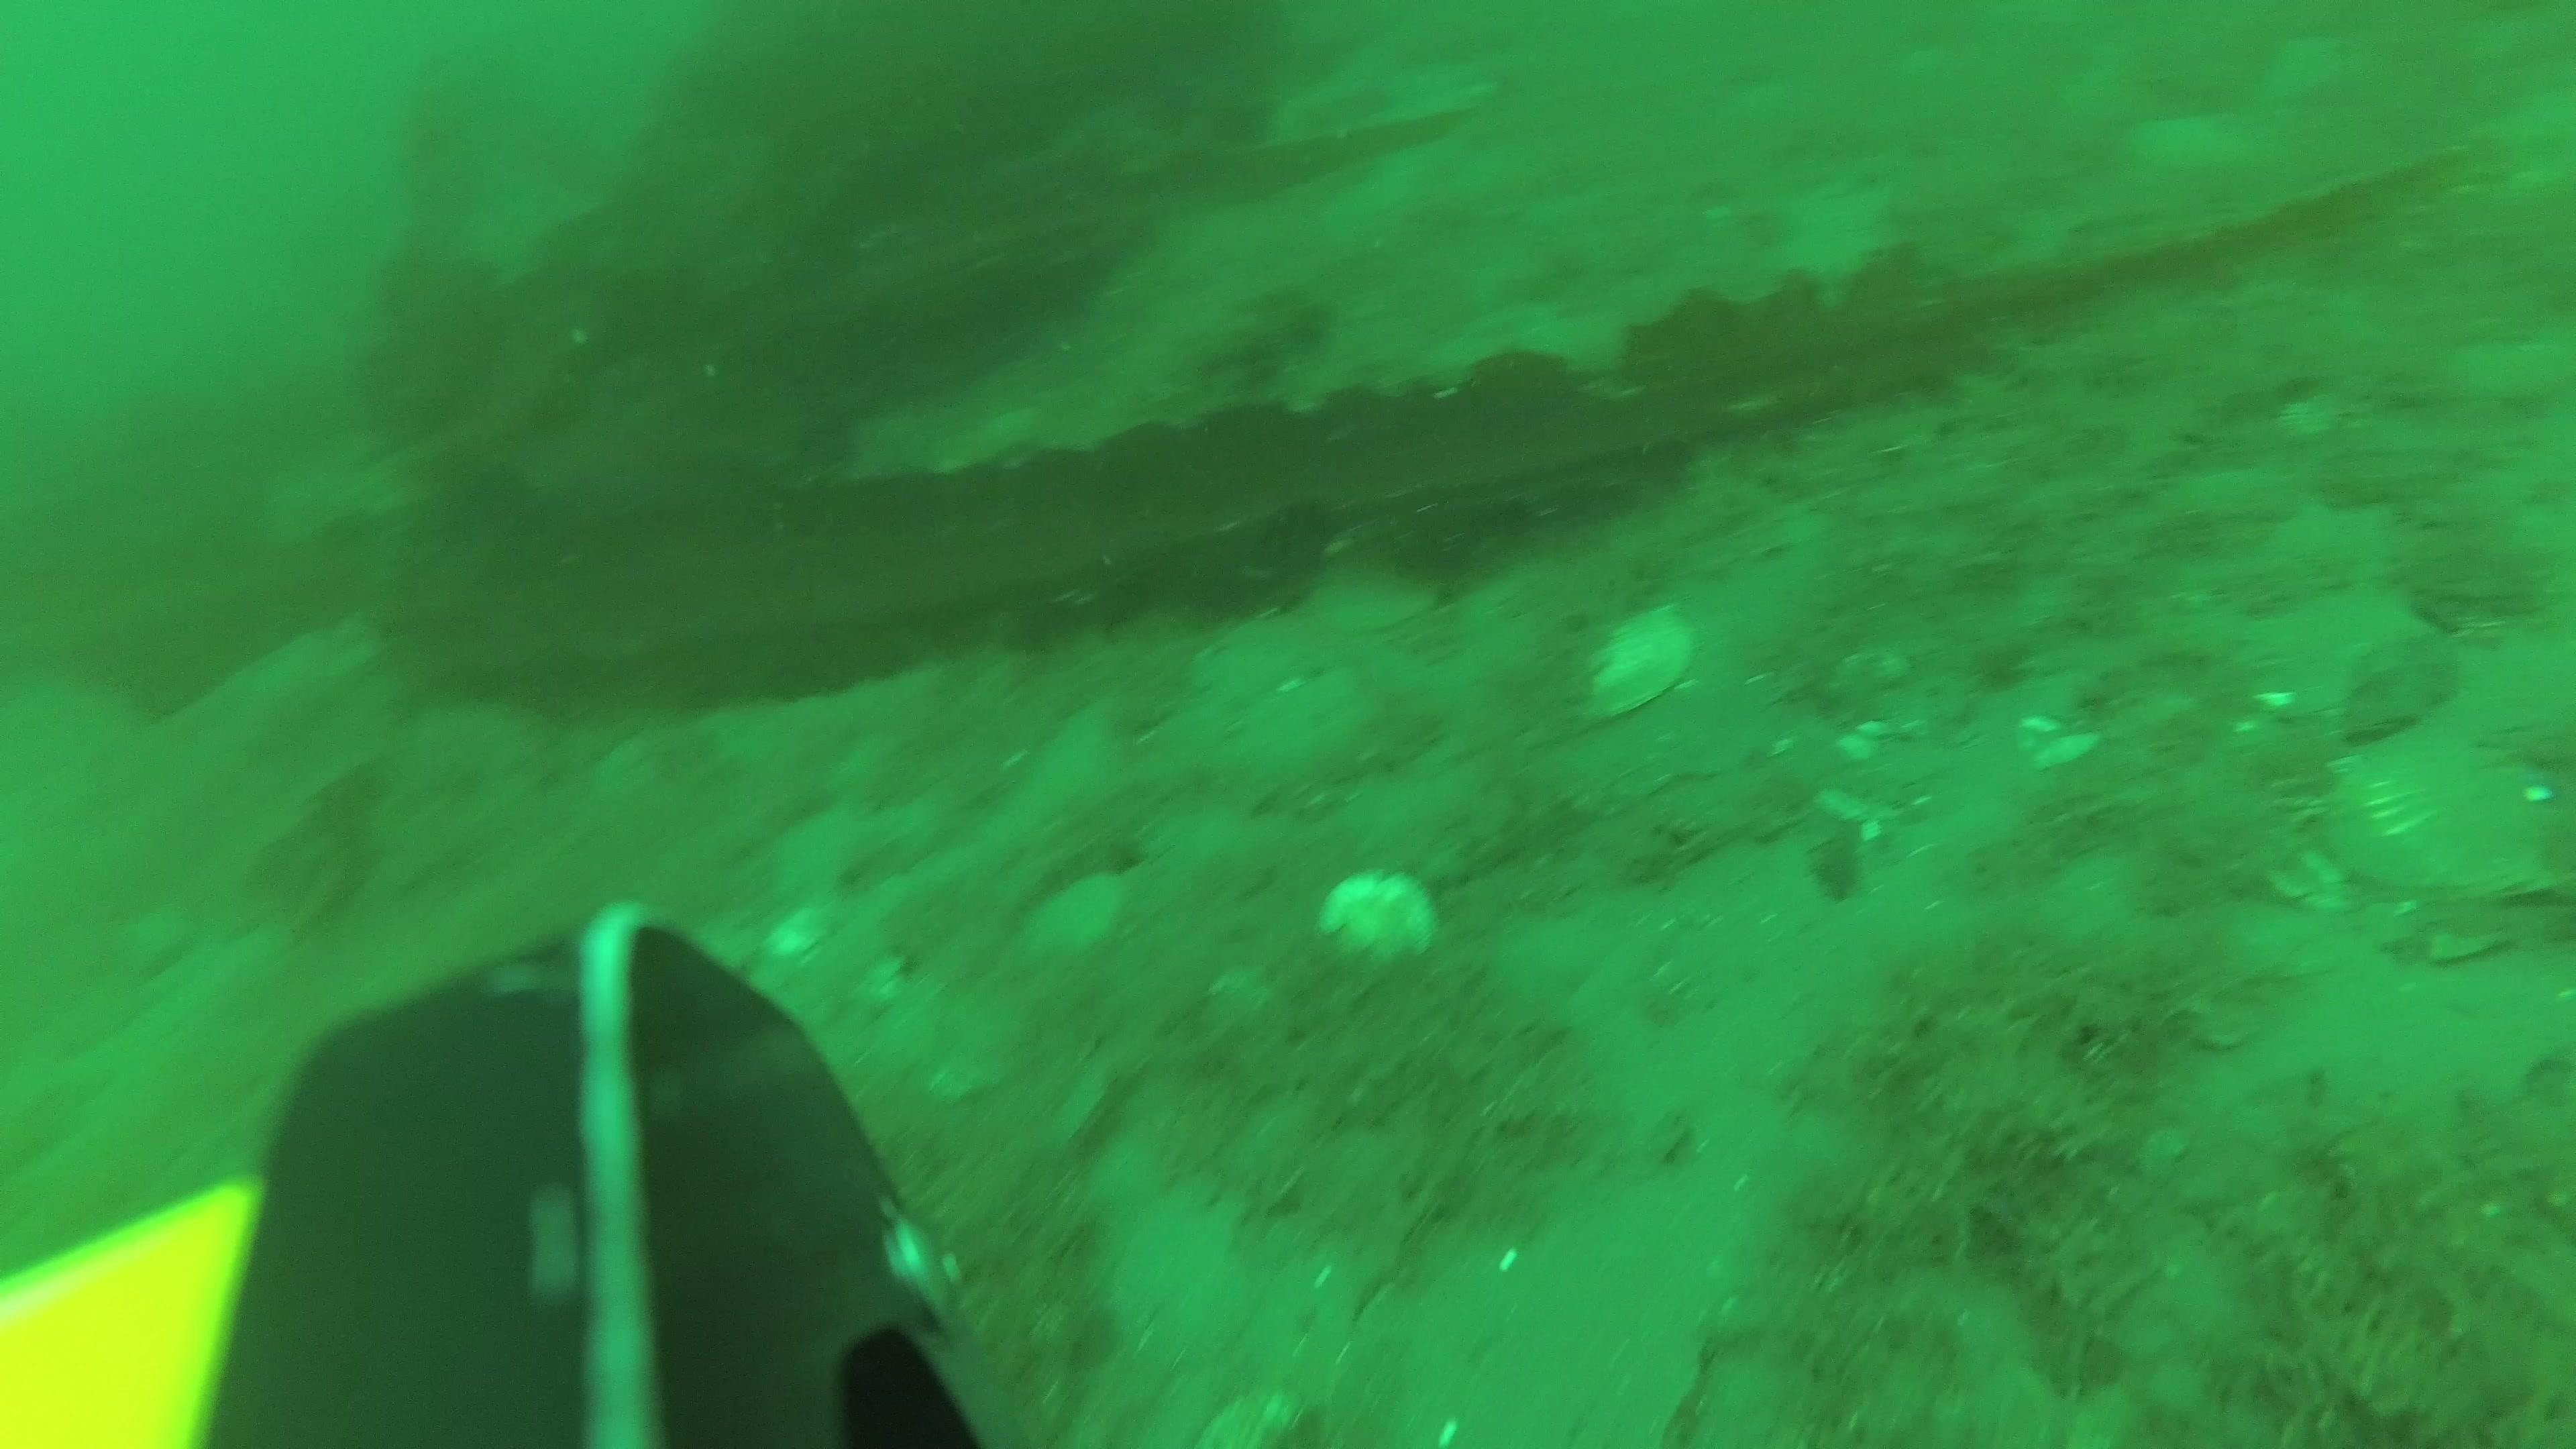scallop: (2323, 732, 2560, 908), (1576, 602, 1697, 724), (1304, 556, 1438, 642), (1023, 869, 1134, 970)
